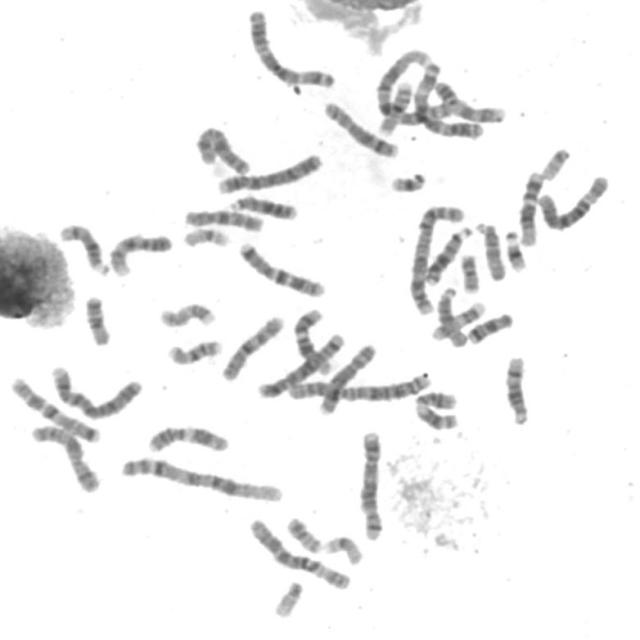A1: (116, 450, 286, 505), (371, 44, 444, 133)
A2: (403, 198, 467, 316), (282, 365, 434, 404)
A3: (242, 3, 338, 89), (410, 60, 487, 141)
B4: (45, 360, 144, 421), (212, 148, 325, 195)
B5: (252, 328, 347, 400), (354, 425, 386, 542)
C10: (216, 309, 286, 383), (179, 203, 265, 233)
C11: (142, 420, 230, 454), (409, 386, 462, 432)
C12: (289, 305, 335, 376), (513, 167, 544, 247)
C6: (243, 512, 353, 592), (532, 170, 611, 232)
C7: (5, 371, 104, 445), (234, 236, 328, 299)
C8: (318, 96, 401, 159), (314, 338, 379, 416)
C9: (429, 76, 507, 125), (103, 228, 174, 278)
D13: (420, 222, 474, 287), (223, 191, 300, 221)
D14: (54, 218, 111, 277), (498, 350, 532, 427)
D15: (432, 282, 470, 349), (471, 216, 508, 282)
E16: (373, 76, 416, 135), (162, 334, 223, 366)
E17: (426, 296, 488, 343), (154, 297, 217, 330)
E18: (462, 307, 515, 346), (79, 290, 113, 347)
F19: (318, 530, 365, 566), (178, 221, 232, 249)
F20: (281, 512, 324, 555), (455, 248, 482, 294)
G21: (499, 226, 529, 273), (384, 166, 428, 194)
G22: (268, 575, 305, 619), (537, 142, 573, 182)
X: (26, 420, 102, 494), (190, 120, 252, 177)
